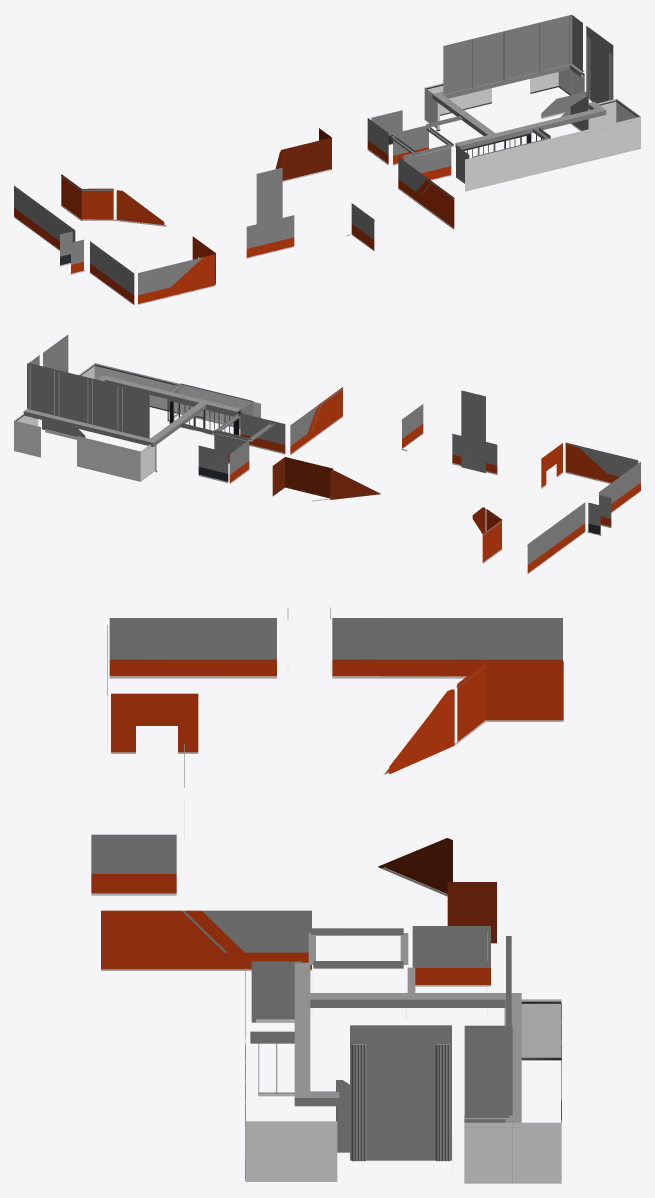
Rendered from SM_H_Building_Tide_Loungehall_11_ATLAS.fbx.
3 views of the same model, one above another, from view 1: azimuth 30°, elevation 25°; view 2: azimuth 150°, elevation 25°; view 3: azimuth 270°, elevation 25° (orthographic). The views are drawn at different scales.
Visible parts, largest first — view 1: SM_H_Building_Tide_Loungehall_11_ATLAS; view 2: SM_H_Building_Tide_Loungehall_11_ATLAS; view 3: SM_H_Building_Tide_Loungehall_11_ATLAS.
Boxes of the visible parts, x1,y1,x2,y2 form: SM_H_Building_Tide_Loungehall_11_ATLAS: [14, 14, 640, 304]; SM_H_Building_Tide_Loungehall_11_ATLAS: [14, 334, 640, 574]; SM_H_Building_Tide_Loungehall_11_ATLAS: [91, 607, 563, 1183].
Bounding box in the file's own units: 10104 × 3899 × 1434.
